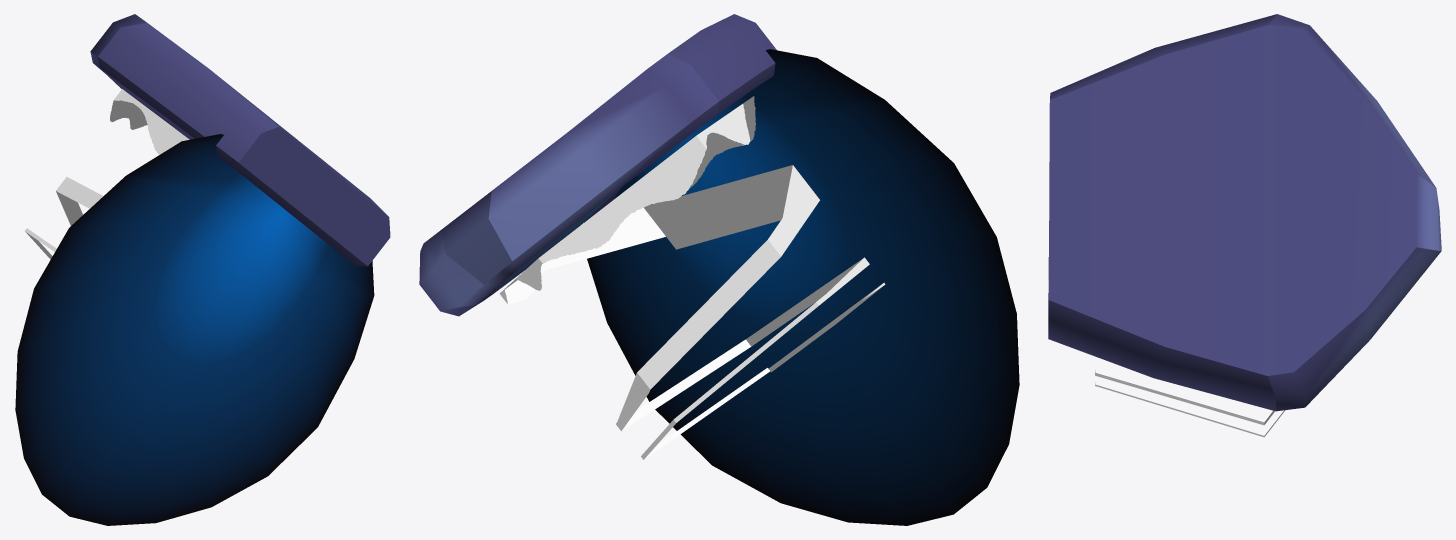
The model's file is Teleportal_Sky.fbx.
3 renders of one model, left to right at view 1: azimuth 30°, elevation 25°; view 2: azimuth 150°, elevation 25°; view 3: azimuth 270°, elevation 25°, orthographic. The views are drawn at different scales.
Parts seen in each view (by area): view 1: GroundGlow, PortalBack, Teleport_Wall_Exit; view 2: GroundGlow, PortalBack, Teleport_Wall_Exit; view 3: PortalBack, Teleport_Wall_Exit.
Part boxes in pixels (x1,y1,x2,y2): GroundGlow: (15, 134, 374, 525); PortalBack: (90, 14, 390, 266); Teleport_Wall_Exit: (25, 89, 189, 259); GroundGlow: (584, 49, 1019, 525); PortalBack: (419, 14, 776, 316); Teleport_Wall_Exit: (499, 96, 885, 459); PortalBack: (1048, 14, 1441, 411); Teleport_Wall_Exit: (1095, 370, 1284, 437).
Size of the model in its own units: 645 by 648 by 462.
